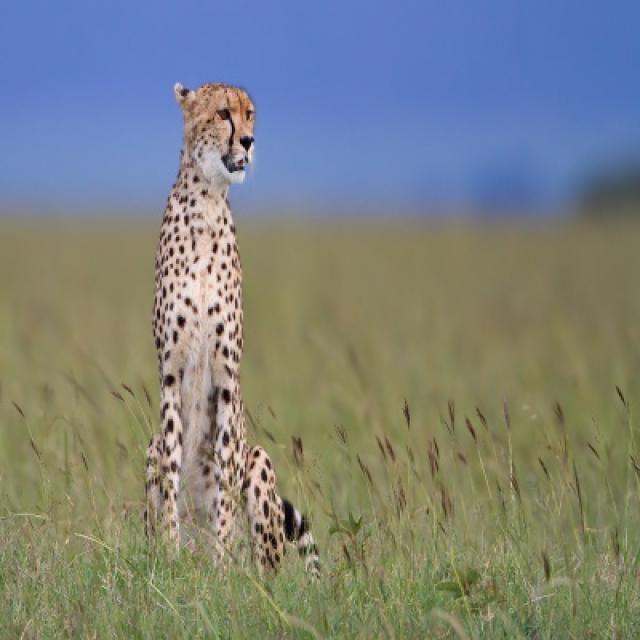Cheetah: (147, 83, 317, 576)
